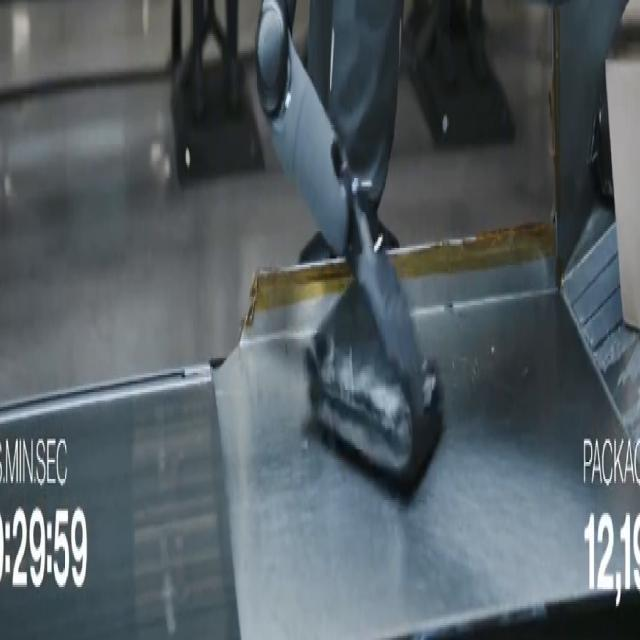package: (305, 282, 443, 490), (606, 3, 639, 328)
